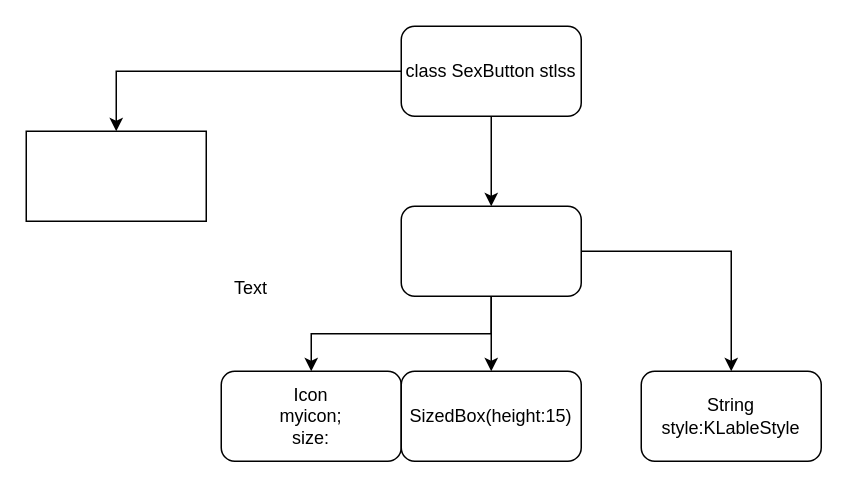
Some shapes in this 848 by 488 pixel diagram are drawn without their labels. The shapes that lost their labels are listed below. From the top down, each one's box as (x1, y1, x2, y2) in pixels, then its label:
(25, 130, 206, 221): InconData myIcon; string myString; constructor();
(400, 205, 581, 296): Column mainAxis.center
